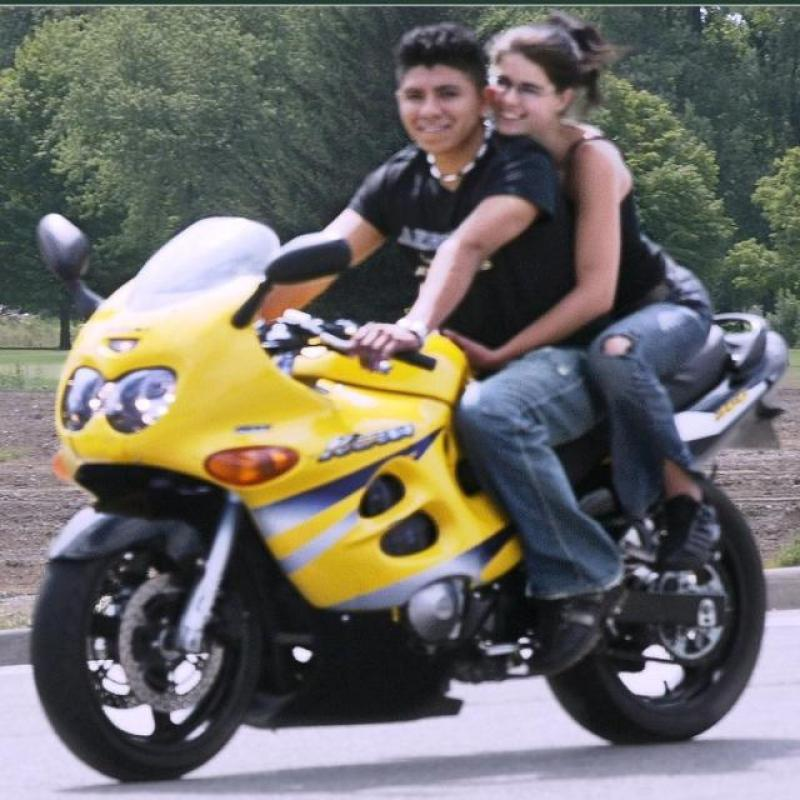nohelmet: (384, 26, 493, 168), (496, 13, 590, 162)
